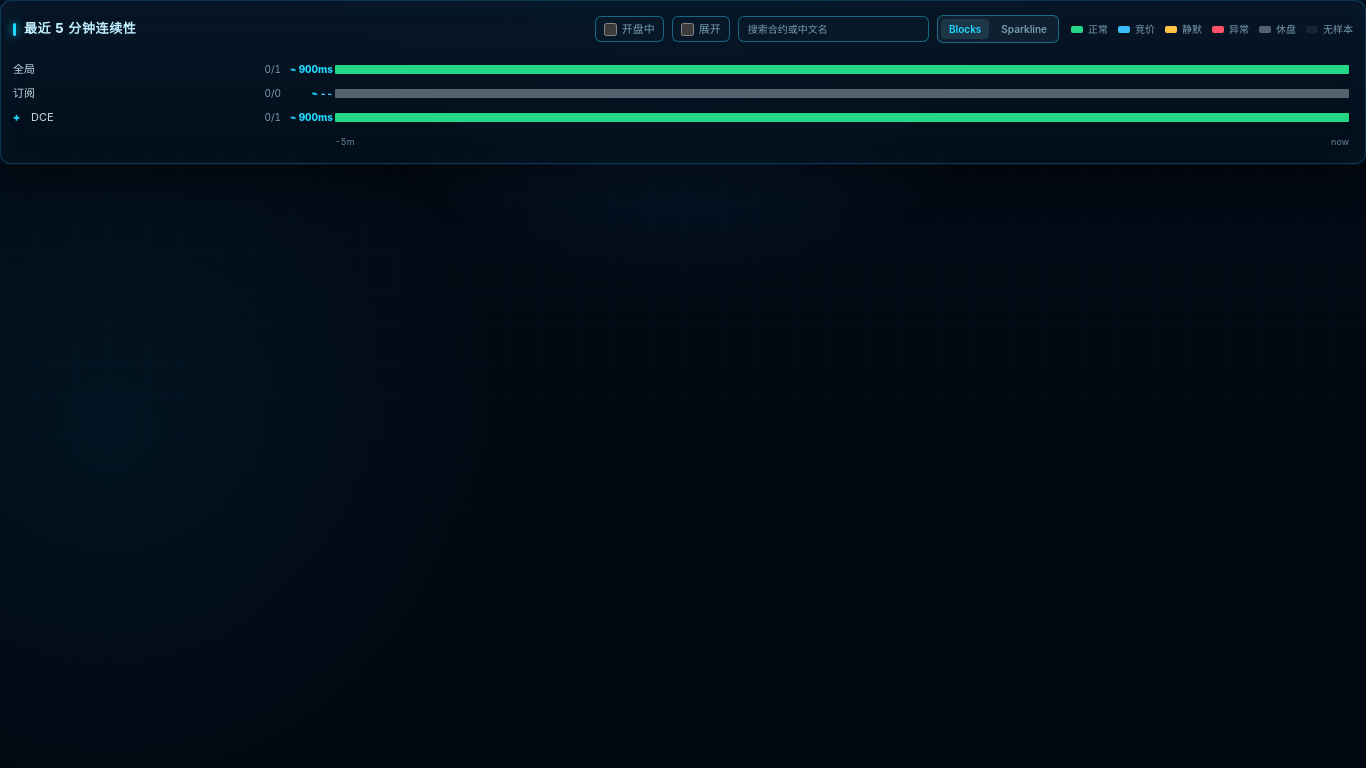
Test: ContinuityTimeline › falls back to latest receive delay when quote-only rows have no average delay
What coordinates should you click on to do the following:
click the button "+ DCE 0/1 ⌁ 900ms"
I would click on:
 (311, 116)
Its box is [13,109,333,125].
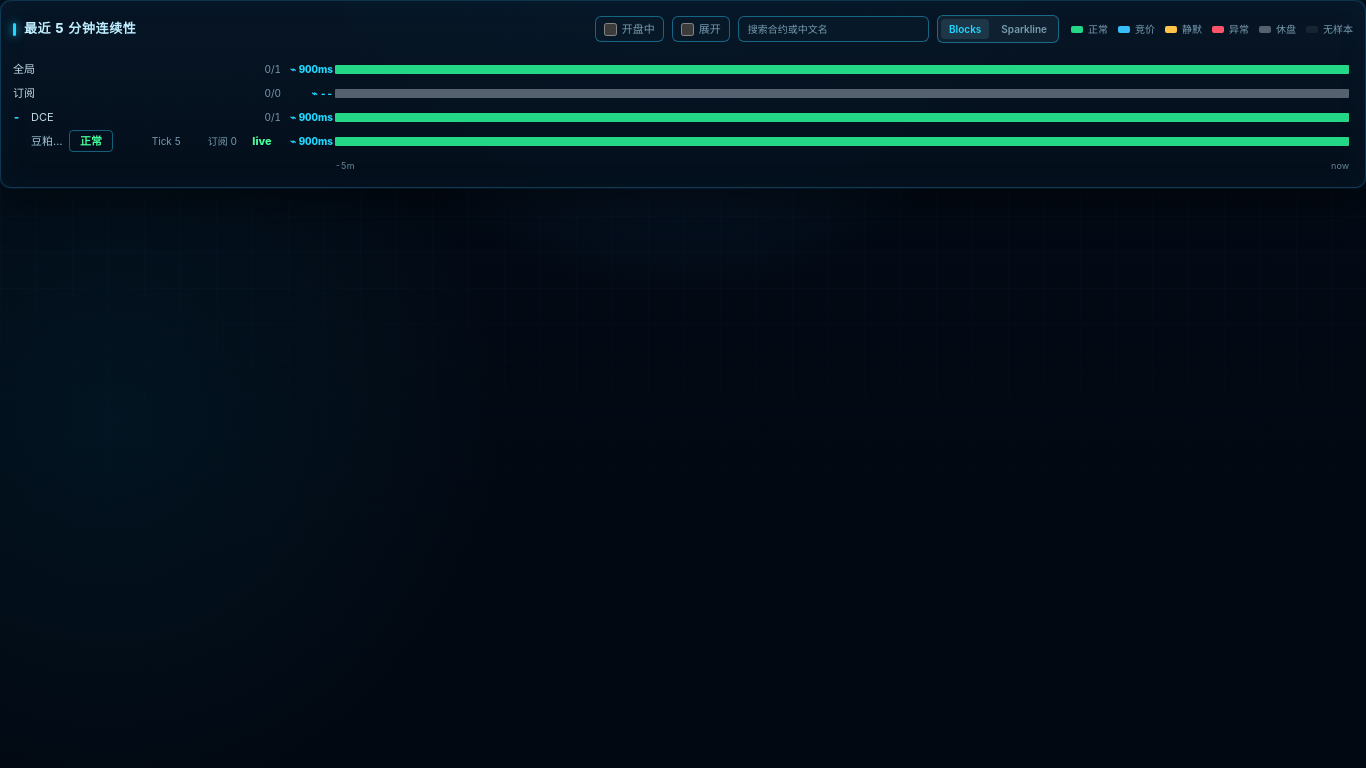
Check: the text "⌁ 900ms" next to "live" is shown, box [290,134,333,146]
